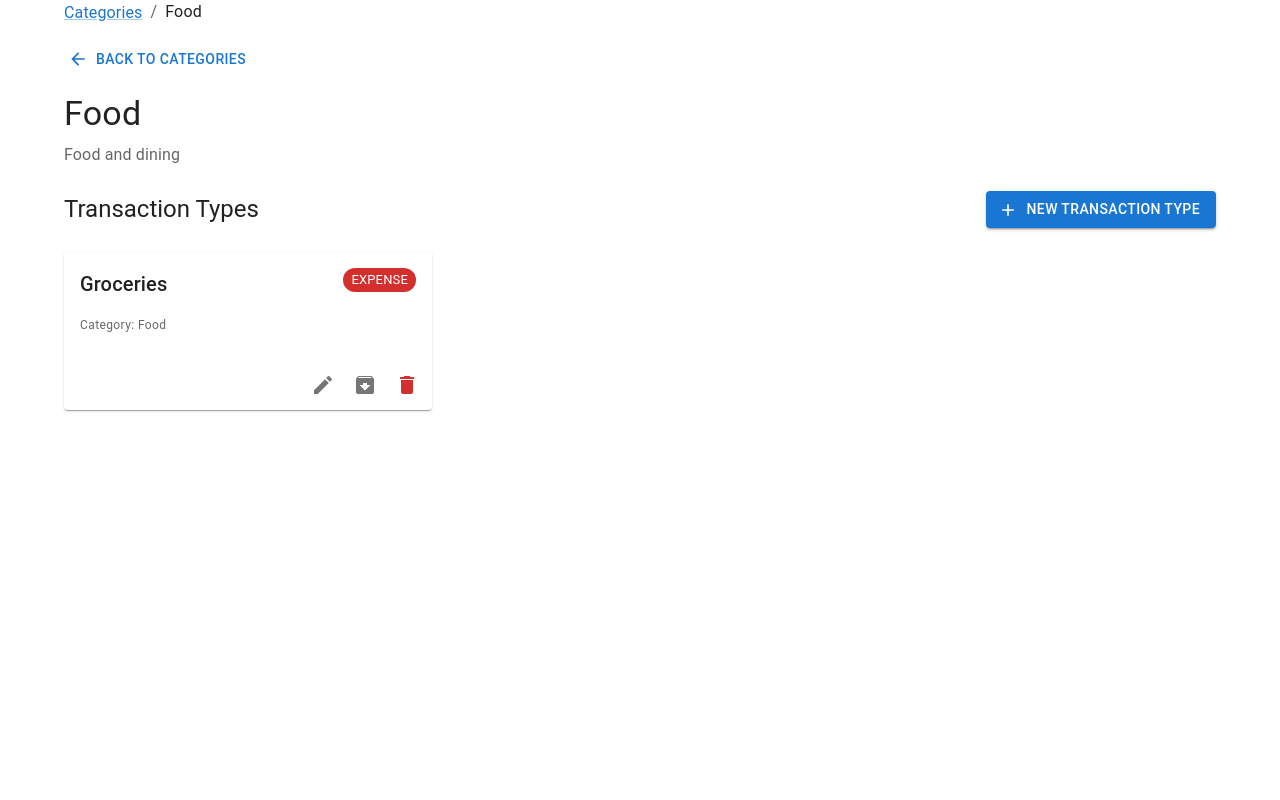
Test: CategoryDetailPage › should open transaction type dialog when New Transaction Type clicked
The image size is (1280, 800).
Click the button "New Transaction Type".
click(1101, 210)  # box top-left (986, 191), bottom-right (1216, 228)
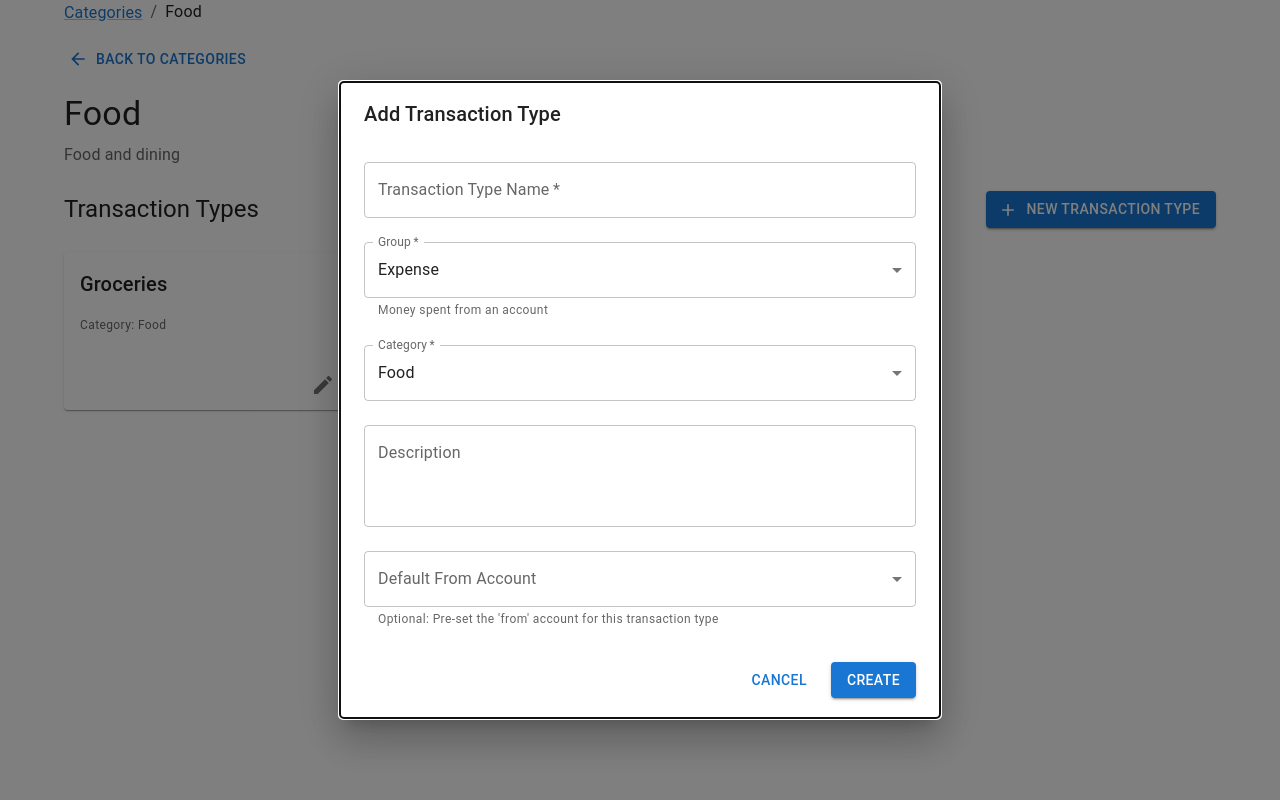
expect the dialog is shown: met, box top-left (340, 82), bottom-right (940, 718)
